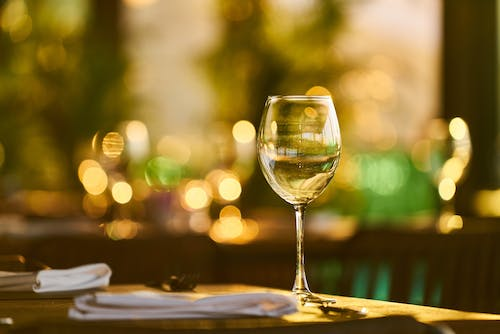alcohol: (256, 93, 342, 307)
